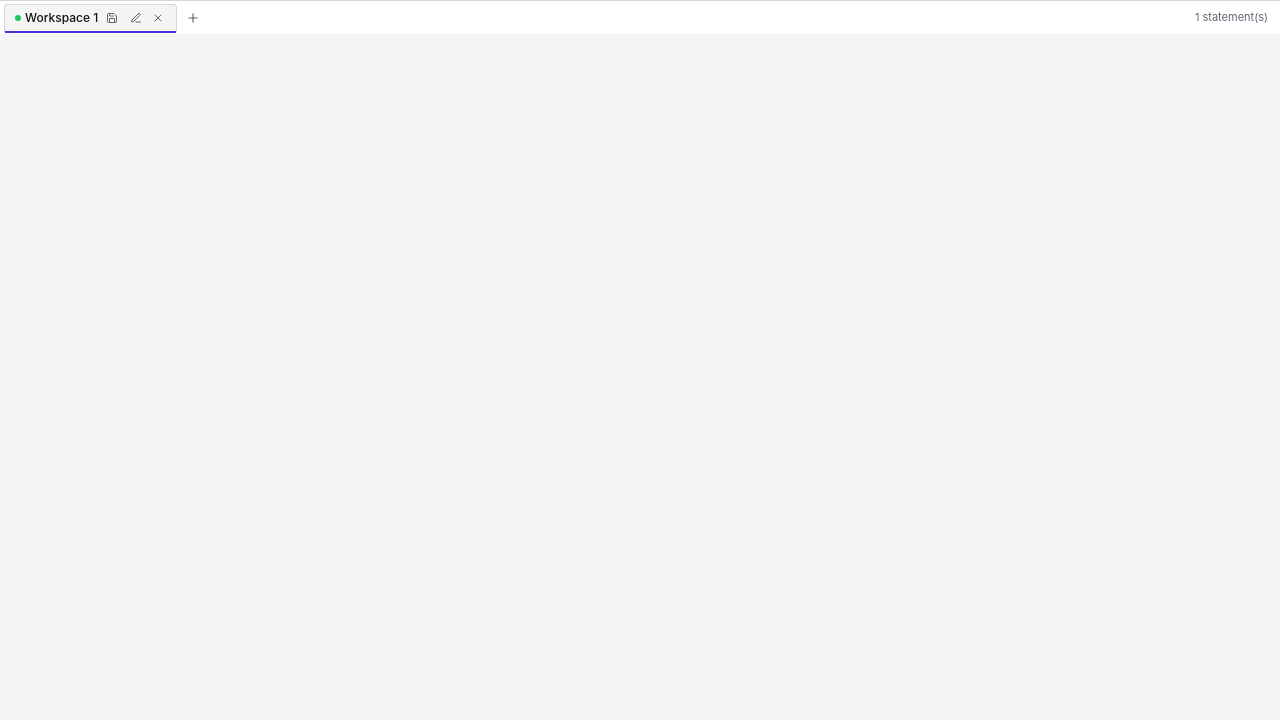
Test case: [@tab-bar] TabBar › dismisses close warning on overlay click
The width and height of the screenshot is (1280, 720).
Click the button named "Close Workspace 1" at (158, 18), box [150,10,166,26]
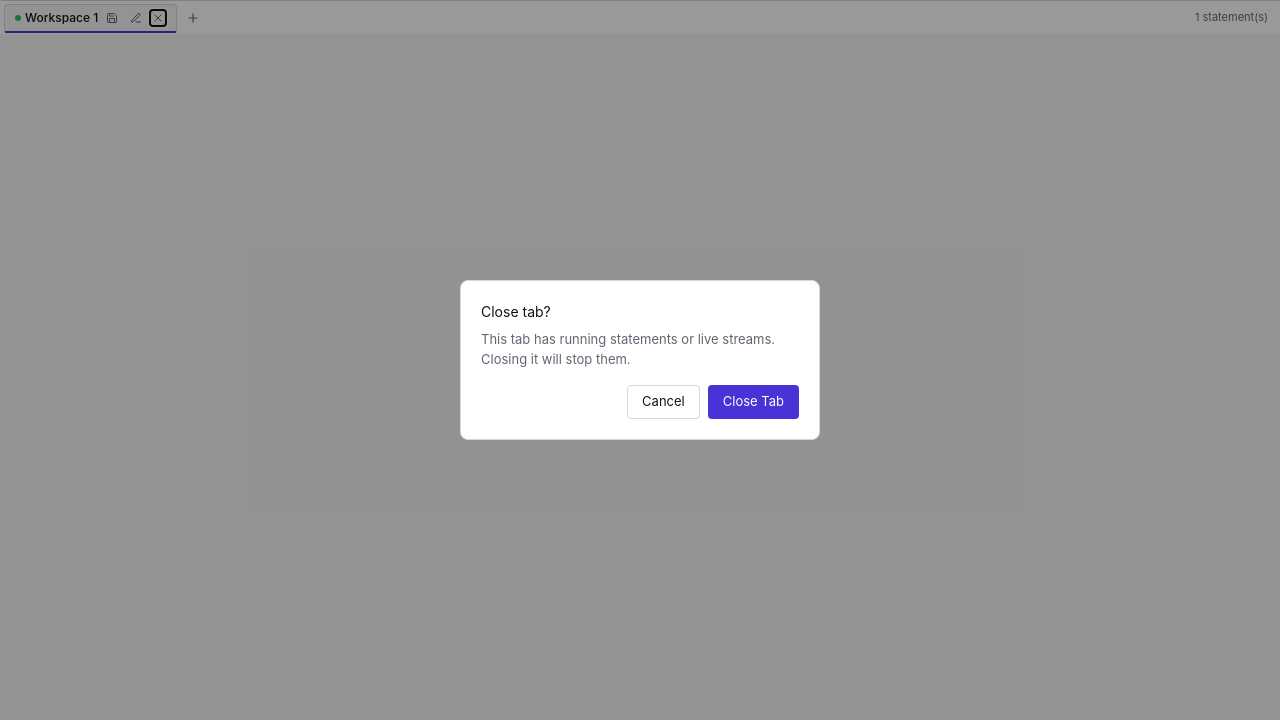
expect the heading "Close tab?" is shown: met, box [481,303,551,320]
# Click overlay
Click the element with class "tab-close-warning-overlay" at (77, 360), box [0,0,1279,719]
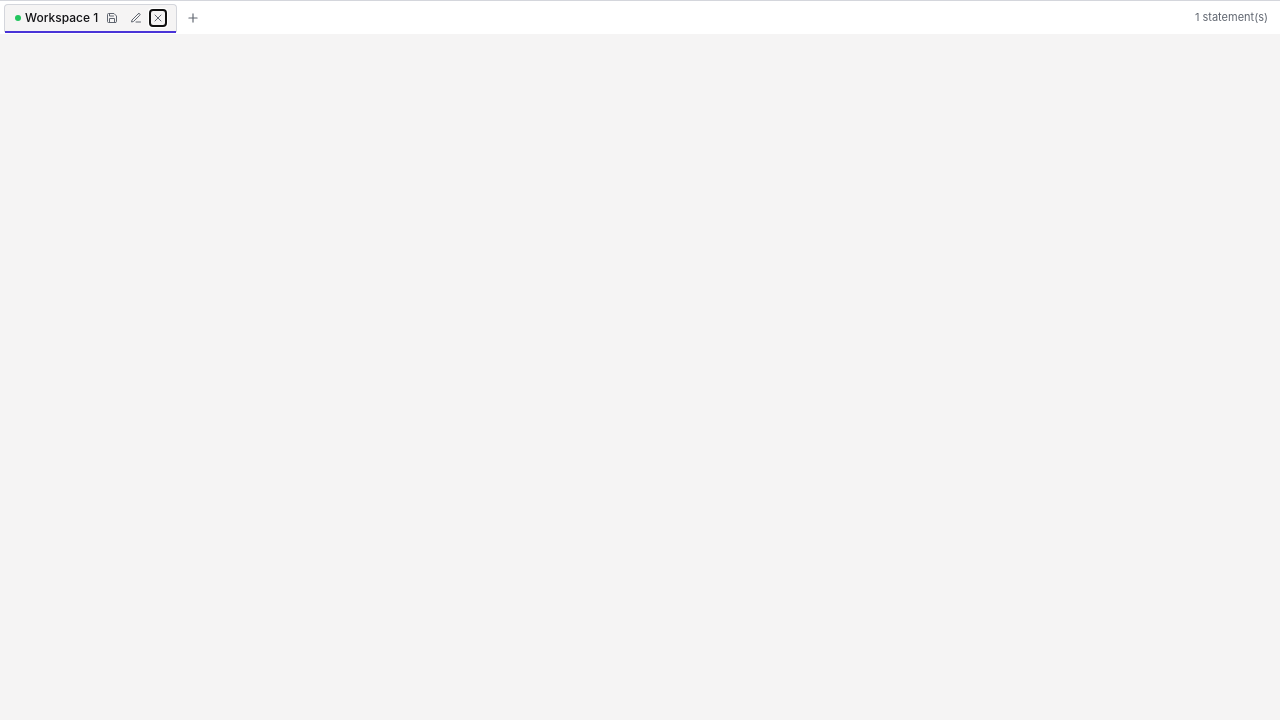
expect the heading "Close tab?" is gone: met
